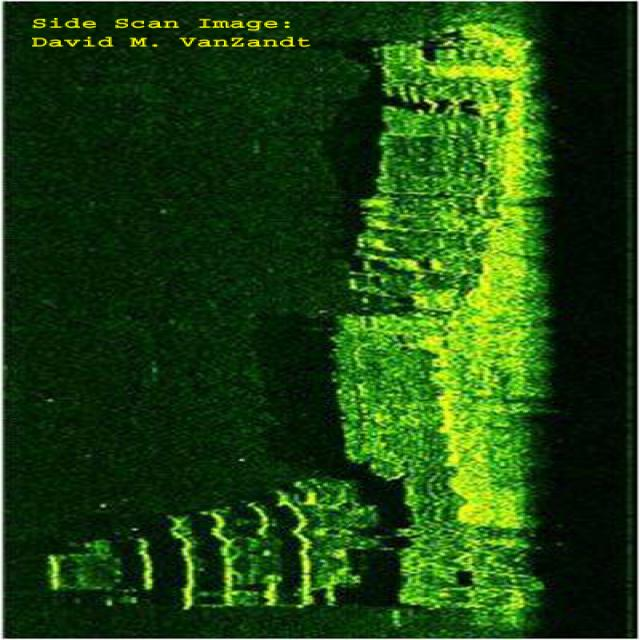ship: (348, 19, 562, 615), (41, 476, 378, 612)
